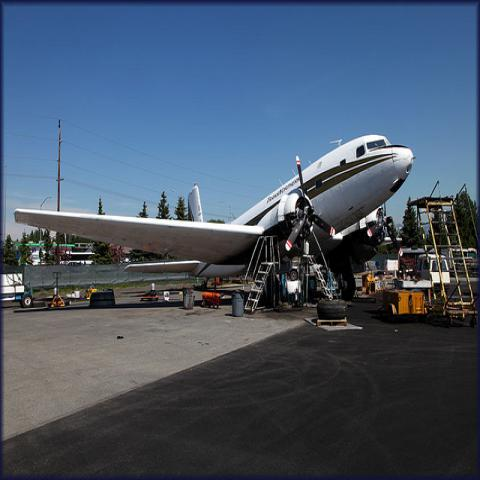truck: (393, 254, 450, 288), (384, 289, 426, 319), (288, 256, 304, 281)
